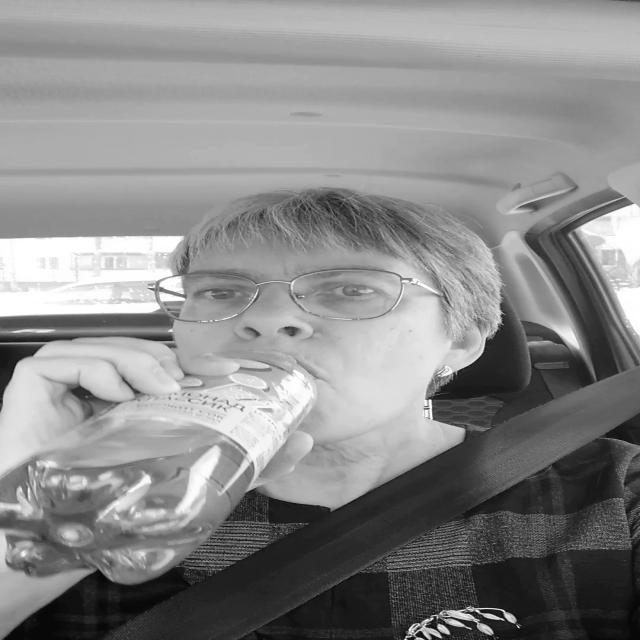Drinking: (22, 352, 310, 586)
Seatbelt: (95, 368, 640, 635)
